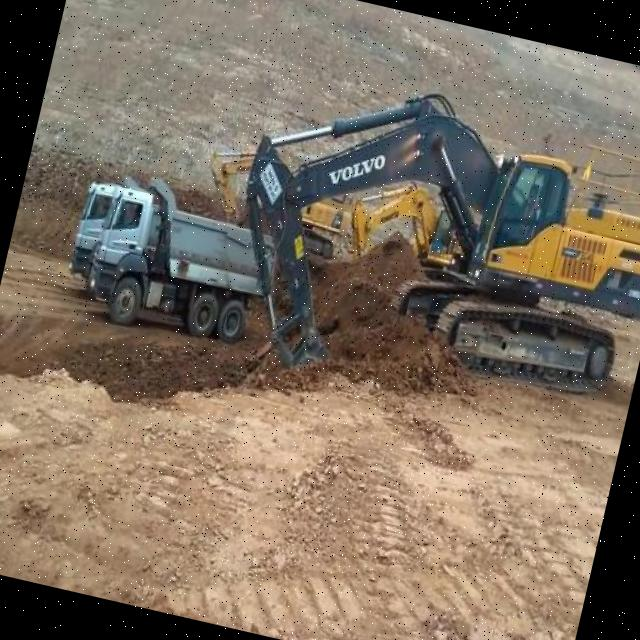Dump Truck: (77, 163, 291, 358), (65, 166, 135, 288)
Excavator: (204, 53, 640, 447), (328, 165, 484, 328), (194, 142, 357, 262)
